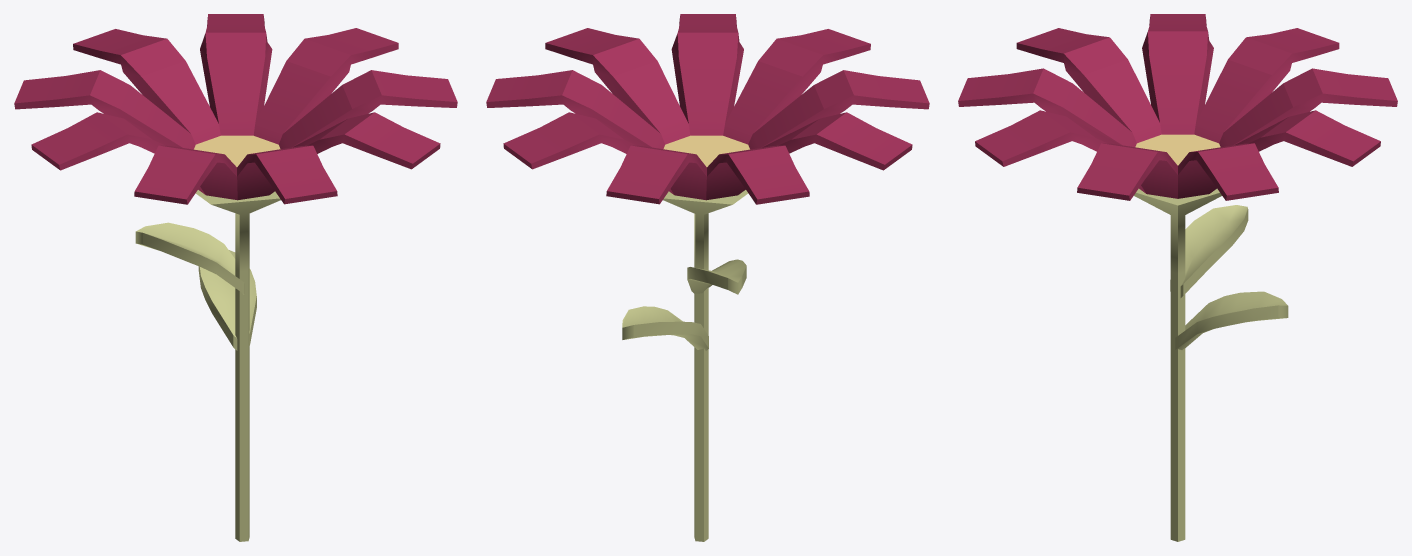
The model's file is model_flower.fbx.
The picture shows the model from 3 angles, left to right: view 1: azimuth 30°, elevation 25°; view 2: azimuth 150°, elevation 25°; view 3: azimuth 270°, elevation 25°; orthographic projection.
Parts seen in each view (by area): view 1: pPipe21, pPipe20, pCube13, pCube12, pCylinder4; view 2: pPipe21, pPipe20, pCube12, pCube13, pCylinder4; view 3: pPipe21, pPipe20, pCube13, pCube12, pCylinder4.
Boxes of the visible parts, x1,y1,x2,y2 form: pPipe21: [14, 14, 457, 204]; pPipe20: [195, 190, 280, 541]; pCube13: [135, 222, 244, 294]; pCube12: [198, 250, 256, 350]; pCylinder4: [194, 135, 280, 166]; pPipe21: [486, 14, 929, 204]; pPipe20: [663, 190, 748, 541]; pCube12: [622, 306, 708, 350]; pCube13: [687, 259, 746, 294]; pCylinder4: [663, 135, 749, 166]; pPipe21: [958, 14, 1397, 200]; pPipe20: [1134, 188, 1221, 541]; pCube13: [1170, 205, 1248, 297]; pCube12: [1175, 291, 1288, 350]; pCylinder4: [1135, 134, 1220, 165].
Bounding box in the file's own units: 7.9 × 8.93 × 8.02.
